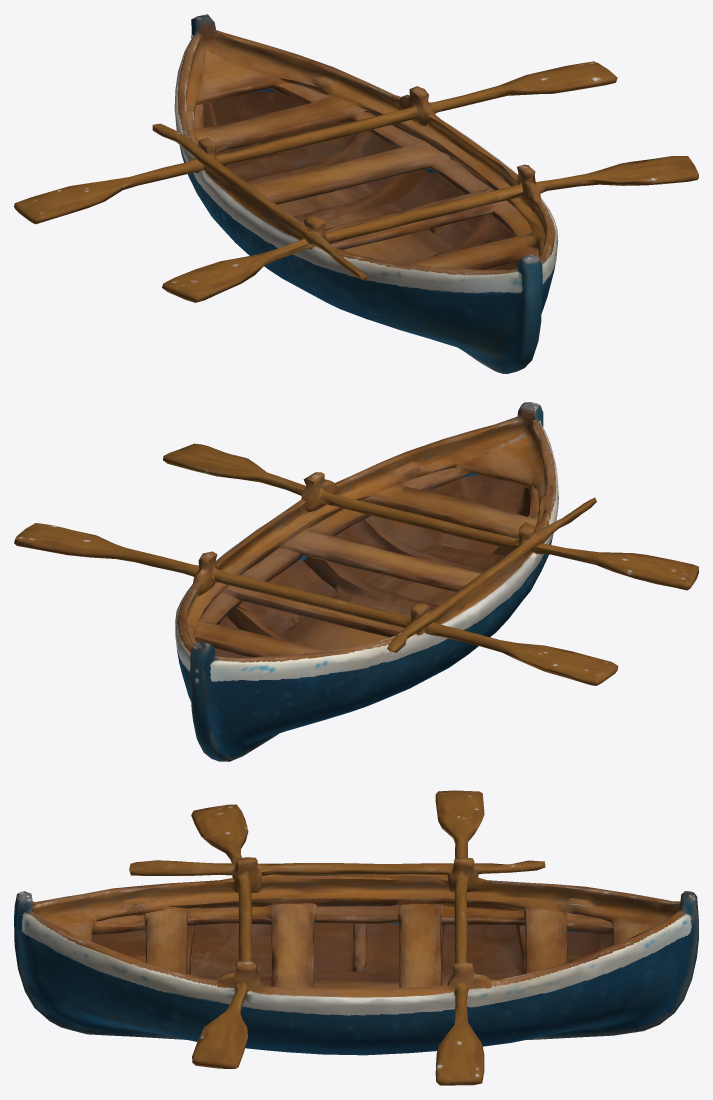
Rendered from boat.glb.
3 renders of one model, top to bottom at view 1: azimuth 30°, elevation 25°; view 2: azimuth 150°, elevation 25°; view 3: azimuth 270°, elevation 25°, orthographic.
Parts seen in each view (by area): view 1: world; view 2: world; view 3: world.
Part boxes in pixels (left/top/right/bottom): world: left=14, top=14, right=698, bottom=373; world: left=14, top=402, right=698, bottom=761; world: left=14, top=790, right=698, bottom=1085.
Bounding box in the file's own units: 1 × 0.2406 × 1.
1 material, 1 textured.
